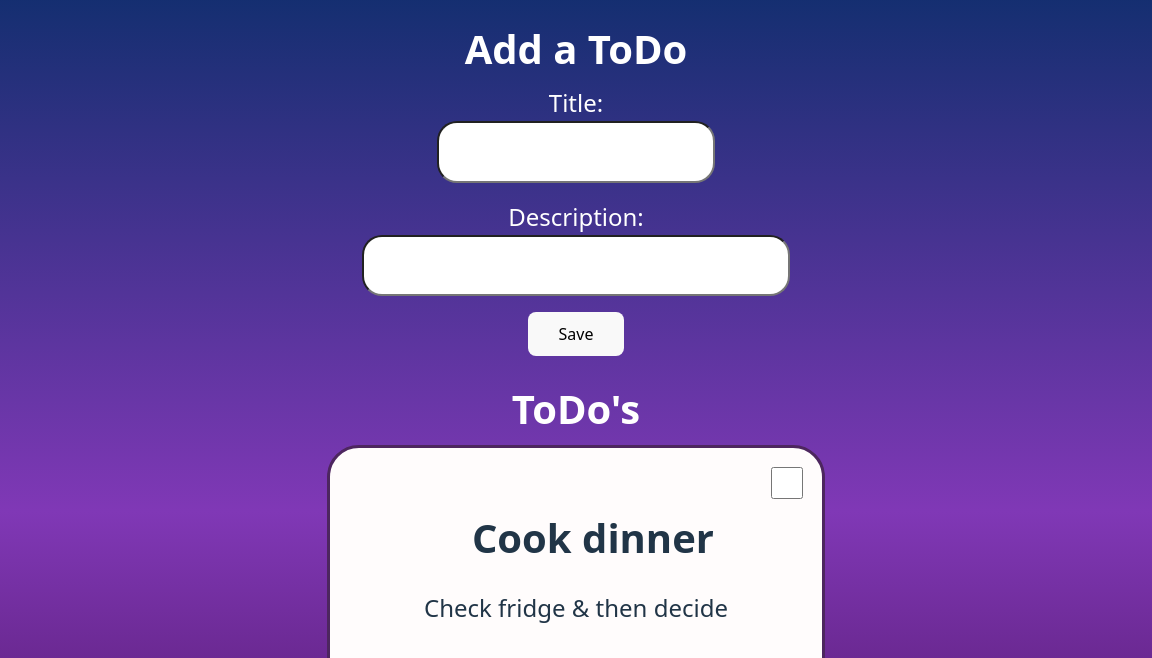
Todo app › can delete a todo that is marked as done
Check the checkbox: (787, 483) [771,467,803,499]
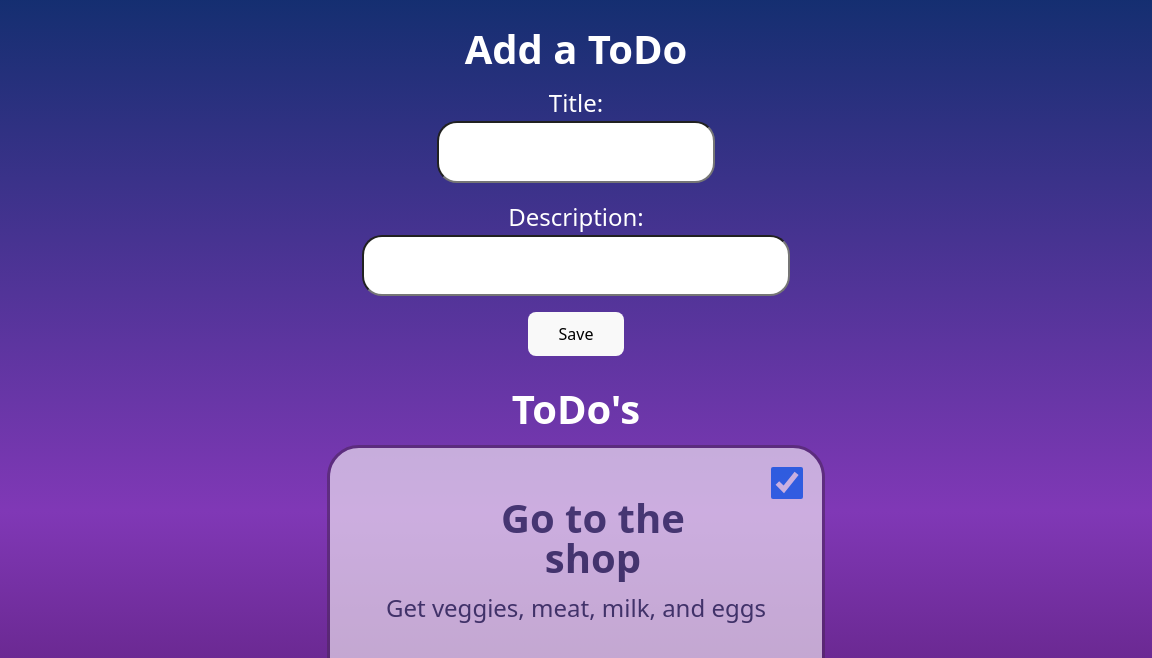
Scroll
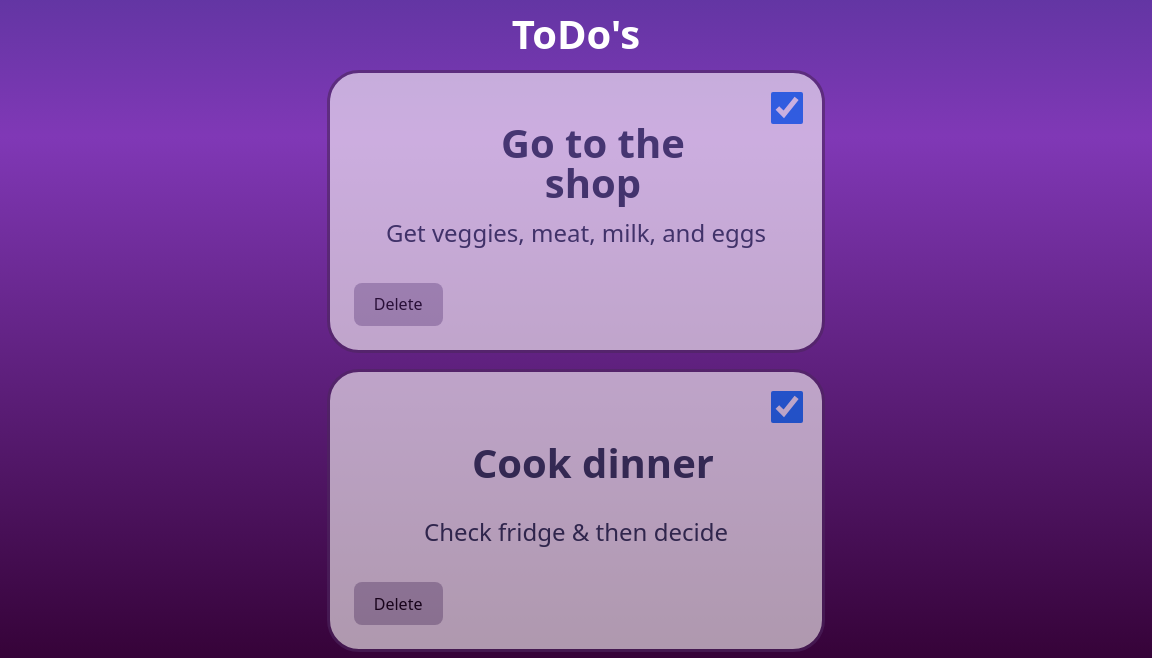
Click the button with class "delBtn" below "Cook dinner": (399, 604) [354,582,443,625]
(page scrolled)
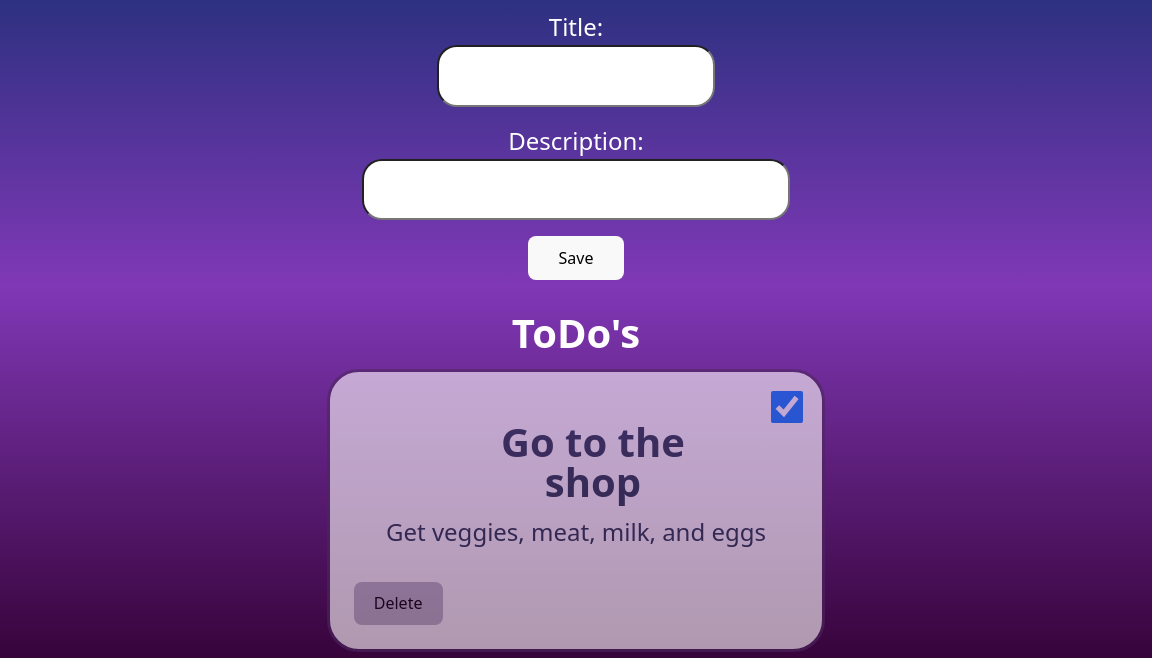
Check: the heading "Cook dinner" is gone
